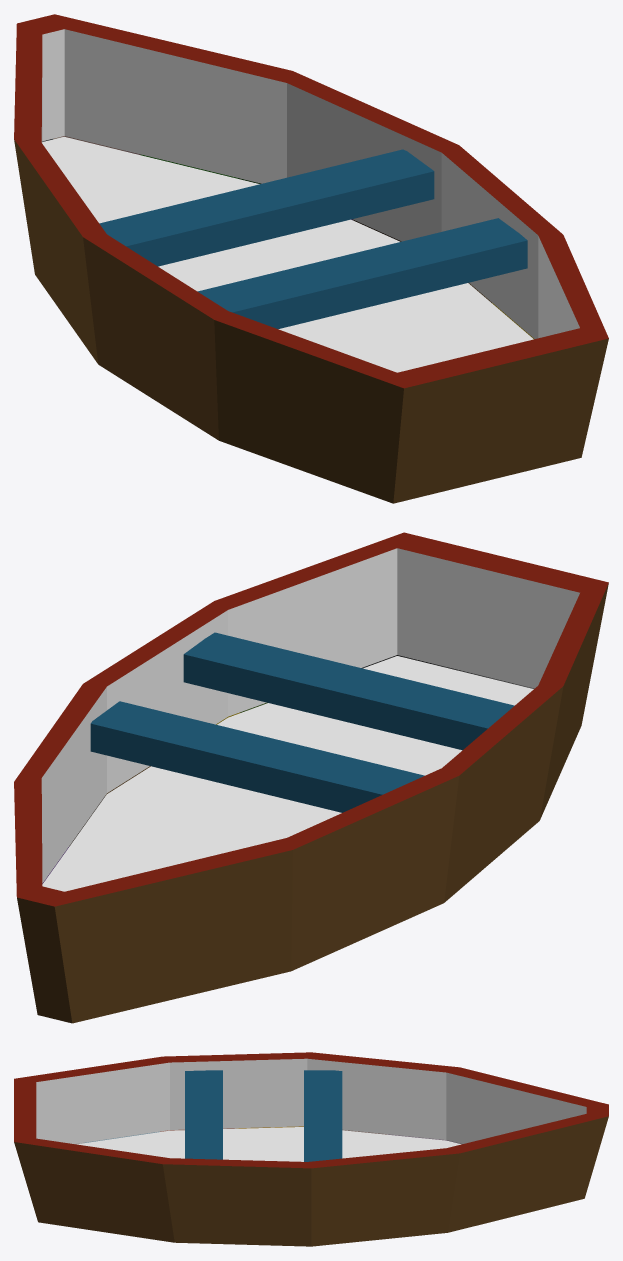
Rendered from Boat.fbx.
3 renders of one model, top to bottom at view 1: azimuth 30°, elevation 25°; view 2: azimuth 150°, elevation 25°; view 3: azimuth 270°, elevation 25°, orthographic. The views are drawn at different scales.
Visible parts, largest first — view 1: BoatTextureGame.001; view 2: BoatTextureGame.001; view 3: BoatTextureGame.001.
Part boxes in pixels (box(x1,y1,x2,y2)): BoatTextureGame.001: box(14, 14, 608, 503); BoatTextureGame.001: box(14, 532, 608, 1023); BoatTextureGame.001: box(14, 1052, 608, 1246).
Size of the model in its own units: 600 by 200 by 1300.
Materials: 1 (1 with a texture image).
